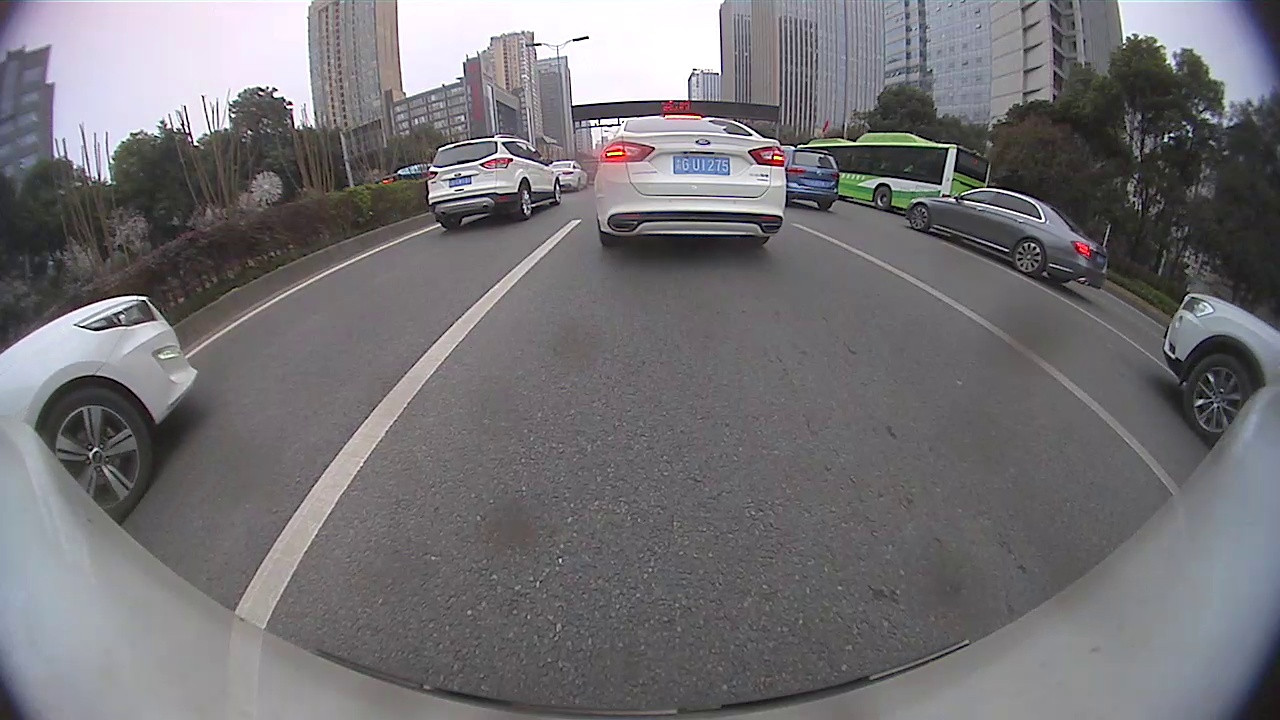bus: (808, 132, 992, 210)
car: (1, 294, 199, 526), (595, 113, 787, 250), (904, 186, 1109, 290), (1161, 292, 1279, 443), (426, 134, 561, 232), (781, 145, 840, 211), (549, 160, 588, 192)
front: (36, 385, 163, 527), (1187, 358, 1263, 446), (908, 202, 930, 233)
rear: (1012, 236, 1046, 279), (872, 184, 897, 215), (516, 186, 536, 224)
